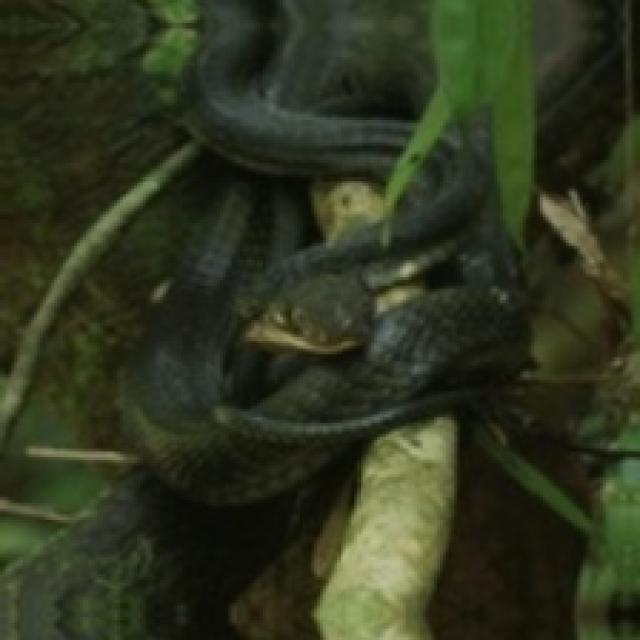king cobra: (120, 0, 526, 500)
